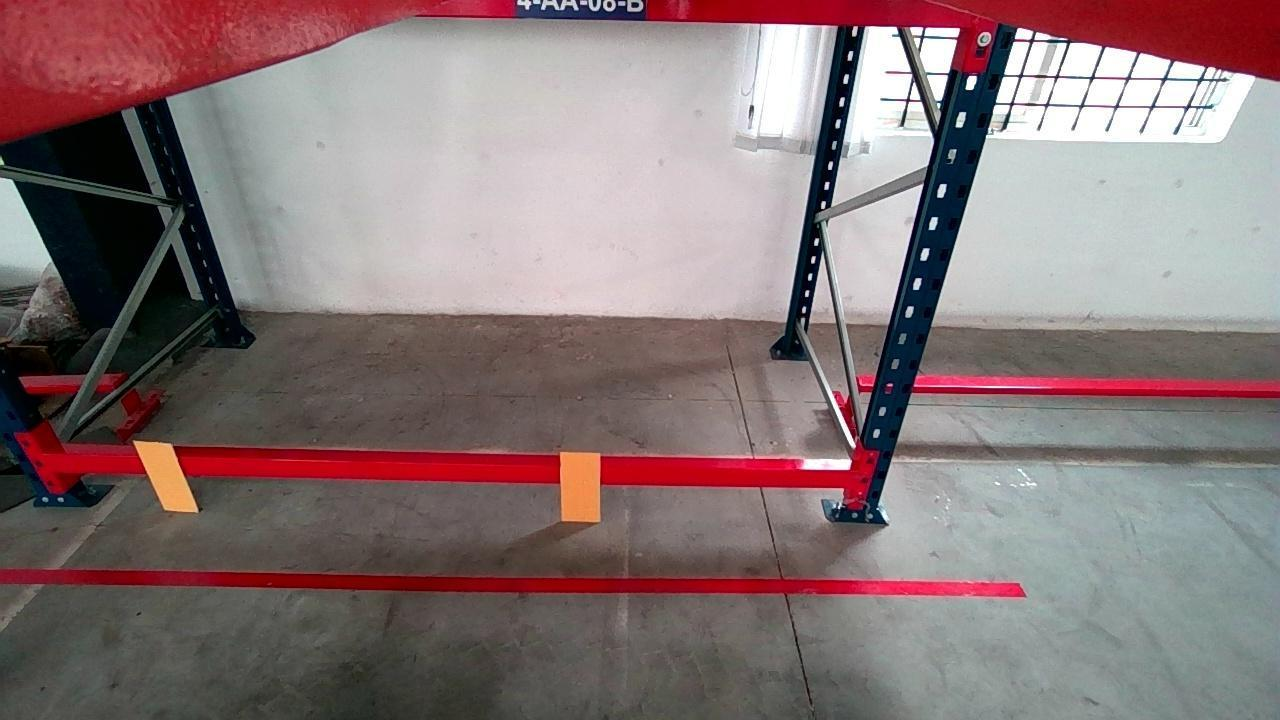h_rack: (46, 453, 853, 486)
orange_strip: (131, 439, 196, 510), (561, 451, 604, 520)
red_line: (3, 569, 1028, 597)
